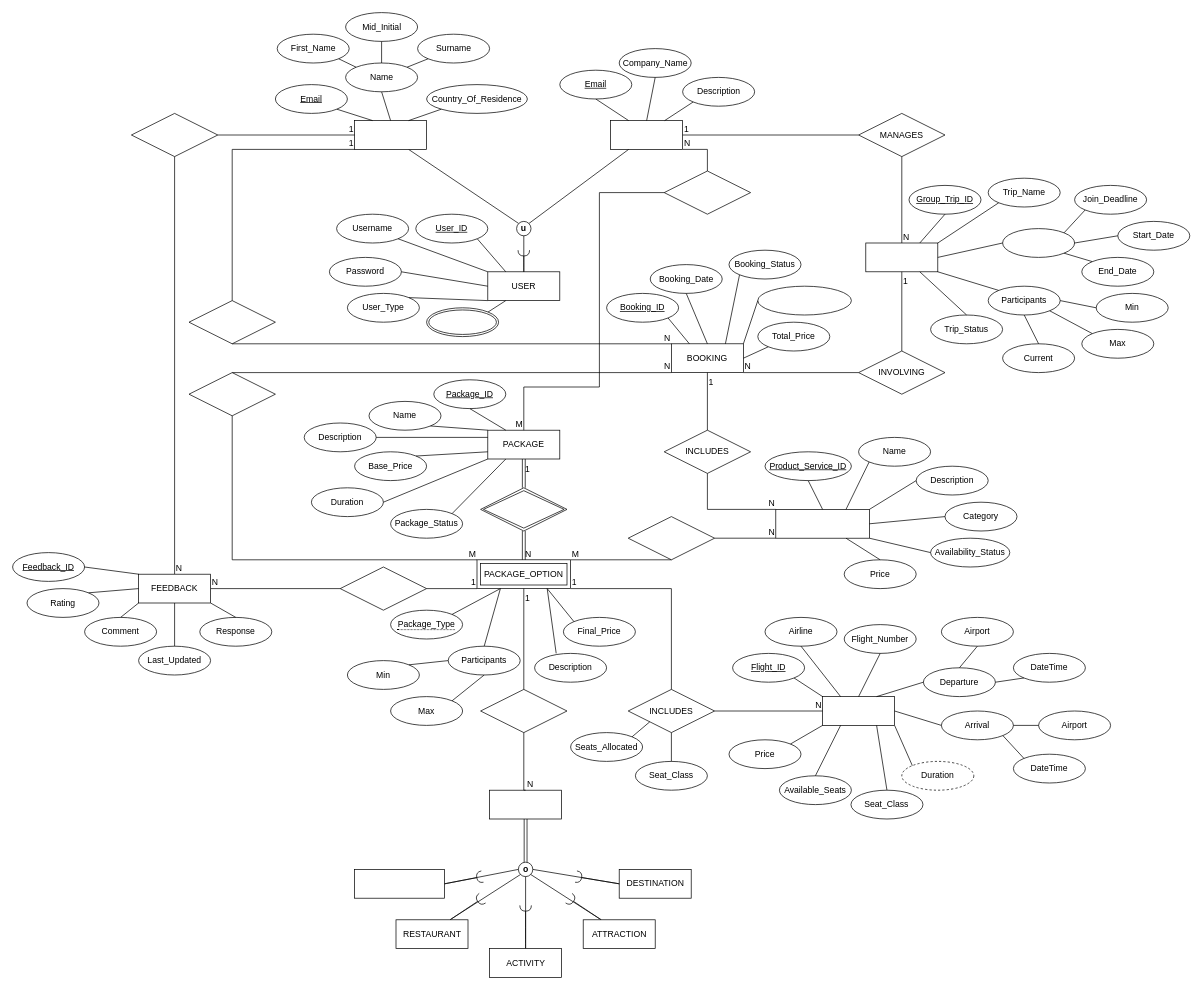
This 1202x990 diagram has some shape labels left out. The box of each missing label's shape, as (x1, y1, x2, y2) in pixels:
ACCOMMODATION: (354, 869, 445, 898)
ADDS_ON: (627, 516, 715, 560)
AGENCY: (610, 120, 683, 149)
Contact_Info: (426, 307, 499, 337)
DESIGNS: (663, 170, 751, 214)
EXPERIENCE: (489, 789, 562, 819)
FLIGHT: (822, 696, 895, 725)
GIVES: (131, 113, 218, 157)
GROUP_TRIP: (865, 242, 938, 272)
HAS: (480, 487, 567, 531)
MAKES: (188, 300, 275, 344)
Number_Of_People: (757, 285, 851, 315)
OF: (188, 372, 275, 416)
ON: (339, 566, 427, 610)
PRODUCT_SERVICE: (775, 509, 869, 538)
PROVIDES: (480, 689, 567, 733)
Timeline: (1002, 228, 1075, 257)
TRAVELLER: (354, 120, 427, 149)
